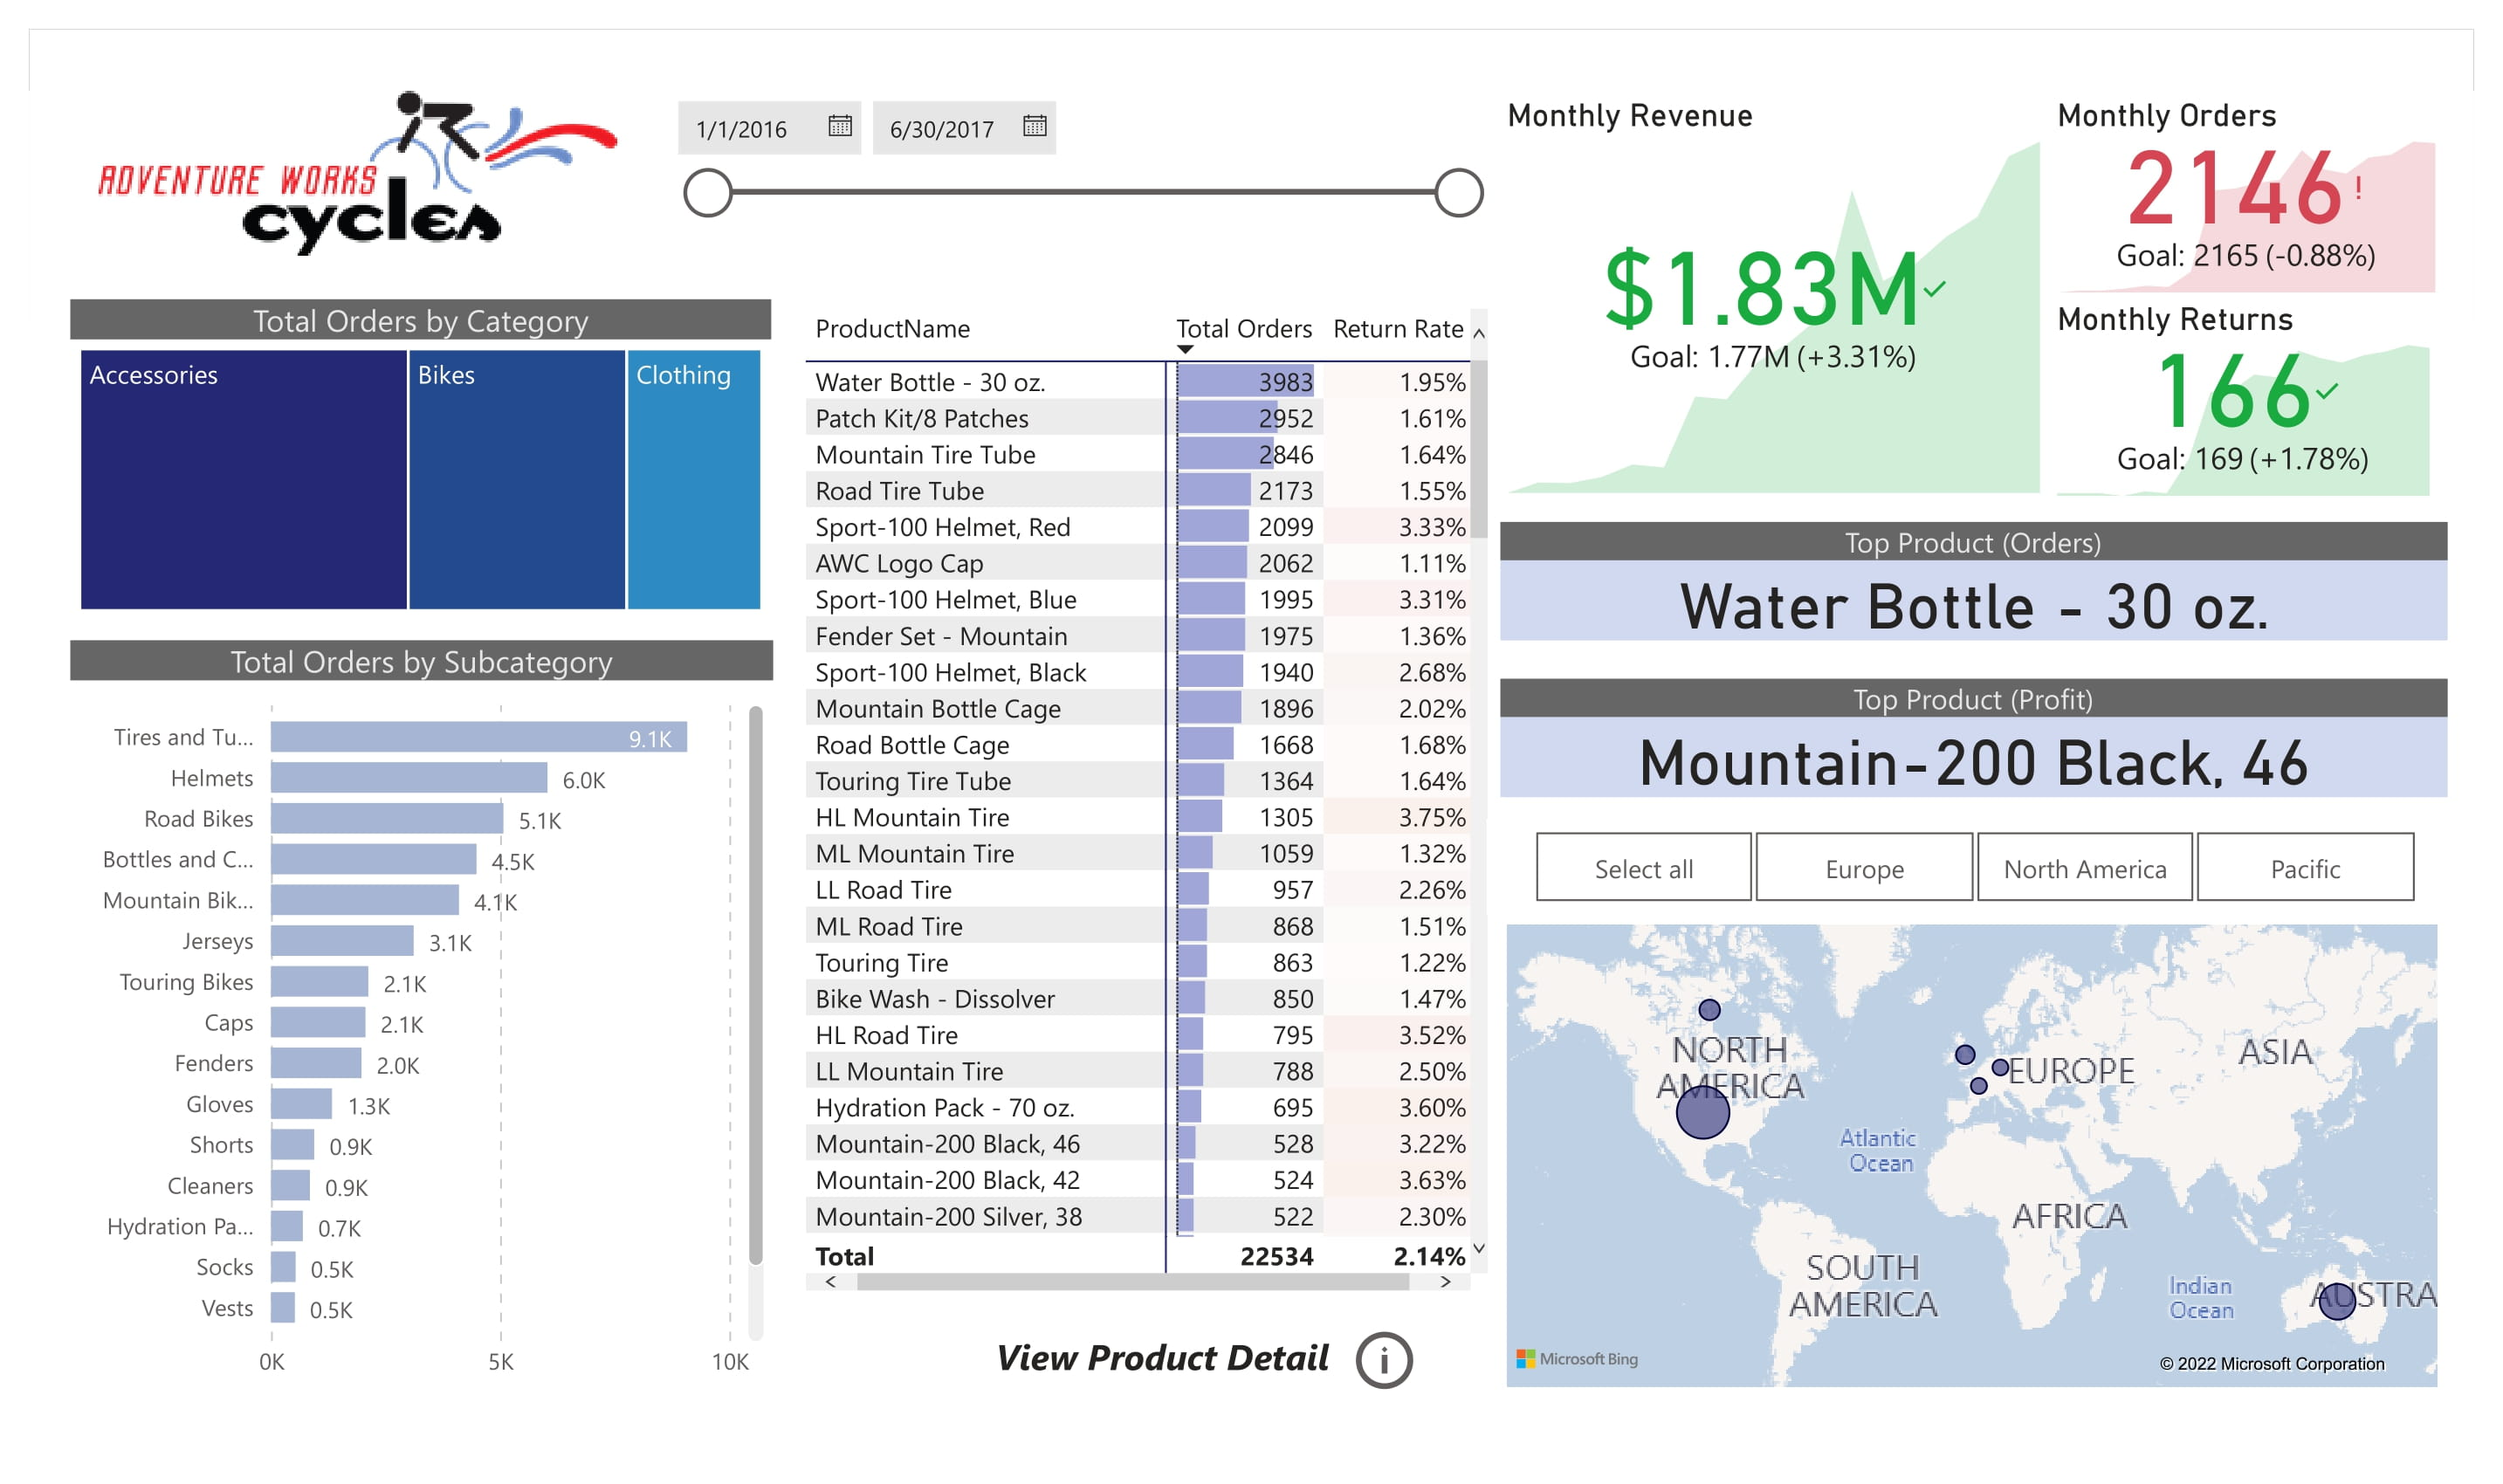

Layout of this report page (visuals, bound fields, positions):
{"tool":"powerbi","page":{"name":"Exec Summary","canvas":[1280,720],"ordinal":0},"visuals":[{"type":"image","box":[31.7,7.2,283.7,109.4],"z":0},{"type":"barChart","title":"Total Orders by Subcategory","fields":{"Y":["AW_Sales.Total Orders"],"Category":["AW_Product_Subcategory_Lookup.SubcategoryName"]},"box":[21.4,307.1,367.9,396.4],"z":1000},{"type":"treemap","title":"Total Orders by Category","fields":{"Group":["AW_Product_Category_Lookup.CategoryName","AW_Product_Subcategory_Lookup.SubcategoryName"],"Values":["AW_Sales.Total Orders"]},"box":[21.6,128.2,367.2,168.5],"z":2000},{"type":"pivotTable","fields":{"Rows":["AW_Product_Category_Lookup.CategoryName","AW_Product_Subcategory_Lookup.SubcategoryName","AW_Product_Lookup.ProductName"],"Values":["AW_Sales.Total Orders","AW_Returns.Return Rate"]},"box":[401.8,128.2,367.2,524.2],"z":3000},{"type":"slicer","fields":{"Values":["AW_Calendar_Lookup.Date"]},"box":[326.8,14.3,442.9,94.6],"z":4000},{"type":"kpi","title":"Monthly Revenue","fields":{"Indicator":["AW_Sales.Total Revenue "],"Goal":["AW_Sales.Prev Month Revenue"],"TrendLine":["AW_Calendar_Lookup.Start of Month"]},"box":[769.3,21.8,288.9,213.3],"z":5000},{"type":"kpi","title":"Monthly Orders","fields":{"Goal":["AW_Sales.Prev Month Orders"],"TrendLine":["AW_Calendar_Lookup.Start of Month"],"Indicator":["AW_Sales.Total Orders"]},"box":[1056.6,21.8,208.3,107.5],"z":6000},{"type":"kpi","title":"Monthly Returns","fields":{"Goal":["AW_Returns.Prev Month Returns"],"TrendLine":["AW_Calendar_Lookup.Start of Month"],"Indicator":["AW_Returns.Total Returns"]},"box":[1056.6,127.7,204.9,107.5],"z":7000},{"type":"card","title":"Top Product (Orders)","fields":{"Values":["Min(AW_Product_Lookup.ProductName)"]},"box":[771,245.2,495.5,62.2],"z":8000},{"type":"card","title":"Top Product (Profit)","fields":{"Values":["Min(AW_Product_Lookup.ProductName)"]},"box":[771,327.6,495.5,62.2],"z":9000},{"type":"map","fields":{"Category":["AW_Territory_Lookup.Country"],"Size":["AW_Sales.Total Orders"]},"box":[769,450.7,496.8,252],"z":10000},{"type":"slicer","fields":{"Values":["AW_Territory_Lookup.Continent"]},"box":[763.2,400.3,509.8,50.4],"z":11000},{"type":"textbox","box":[501.6,664.2,224.9,48.4],"z":12000},{"type":"actionButton","box":[690.2,664.2,109,39.8],"z":13000}]}

Visuals, with their boxes on the page's 1280x720 design canvas (x1, y1, x2, y2). These are canvas units, not pixel positions in the 2503x1484 screenshot, which may show the page scaled, cropped or inside an application window:
image: crop(32, 7, 315, 117)
"Total Orders by Subcategory" barChart: crop(21, 307, 389, 704)
"Total Orders by Category" treemap: crop(22, 128, 389, 297)
pivotTable - AW_Product_Category_Lookup.CategoryName x AW_Product_Subcategory_Lookup.SubcategoryName: crop(402, 128, 769, 652)
slicer - AW_Calendar_Lookup.Date: crop(327, 14, 770, 109)
"Monthly Revenue" kpi: crop(769, 22, 1058, 235)
"Monthly Orders" kpi: crop(1057, 22, 1265, 129)
"Monthly Returns" kpi: crop(1057, 128, 1262, 235)
"Top Product (Orders)" card: crop(771, 245, 1266, 307)
"Top Product (Profit)" card: crop(771, 328, 1266, 390)
map - AW_Territory_Lookup.Country x AW_Sales.Total Orders: crop(769, 451, 1266, 703)
slicer - AW_Territory_Lookup.Continent: crop(763, 400, 1273, 451)
textbox: crop(502, 664, 726, 713)
actionButton: crop(690, 664, 799, 704)
